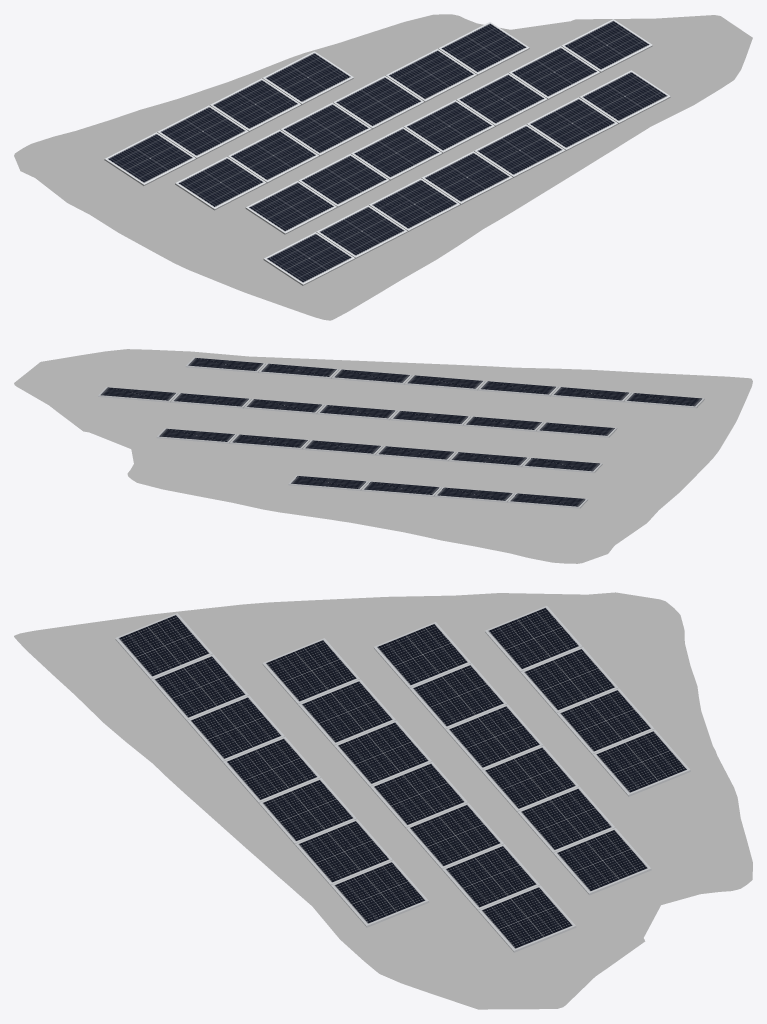
The model's file is terrace_tilted.glb.
3 renders of one model, top to bottom at view 1: azimuth 30°, elevation 25°; view 2: azimuth 150°, elevation 25°; view 3: azimuth 270°, elevation 25°, orthographic. The views are drawn at different scales.
Visible parts, largest first — view 1: RoofSolar; view 2: RoofSolar; view 3: RoofSolar.
Part boxes in pixels (x1,y1,x2,y2): RoofSolar: (14,14,752,320); RoofSolar: (14,349,752,563); RoofSolar: (14,592,752,1009).
Bounding box in the file's own units: 16.69 × 0.5352 × 12.24.
Materials: 3 (1 with a texture image).
